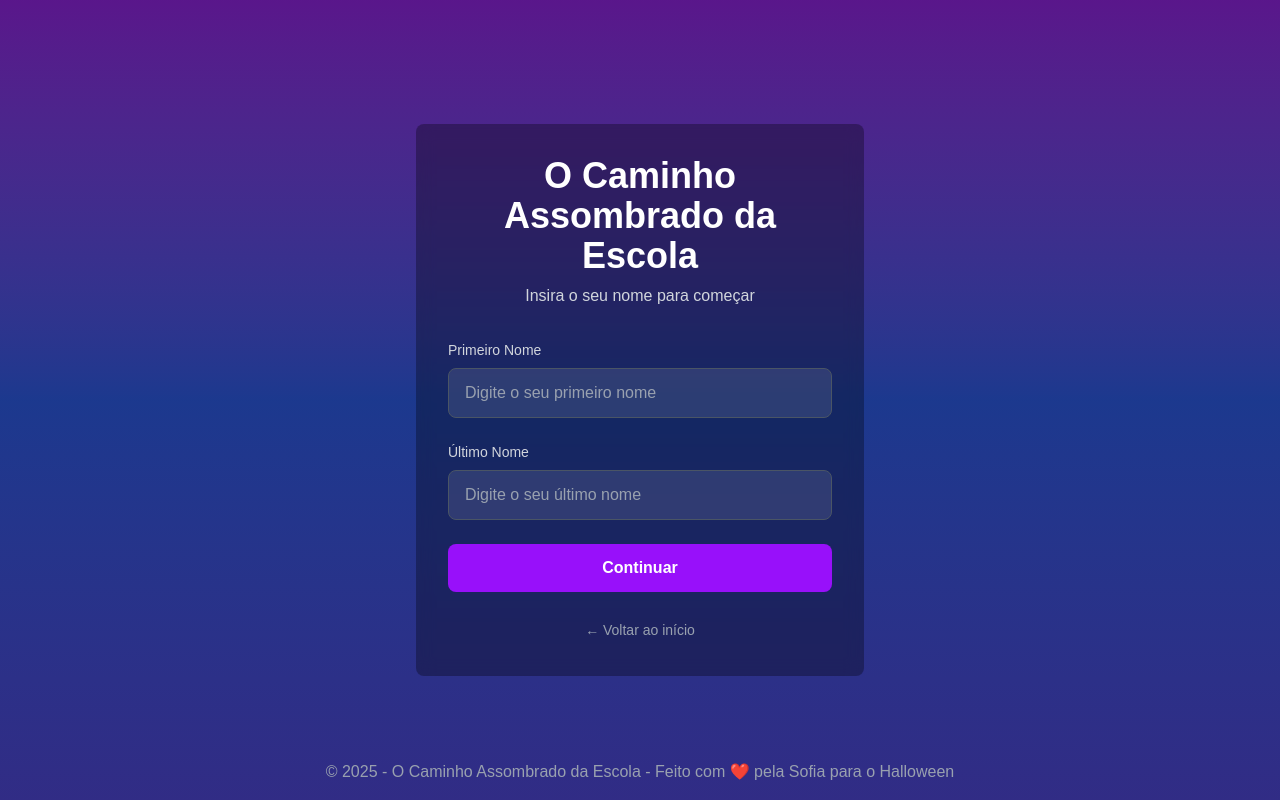
Test case: NomePage › shows validation errors when submitting empty form
Click the button "Continuar". click: point(640, 568)
box: x1=448 y1=544 x2=832 y2=592
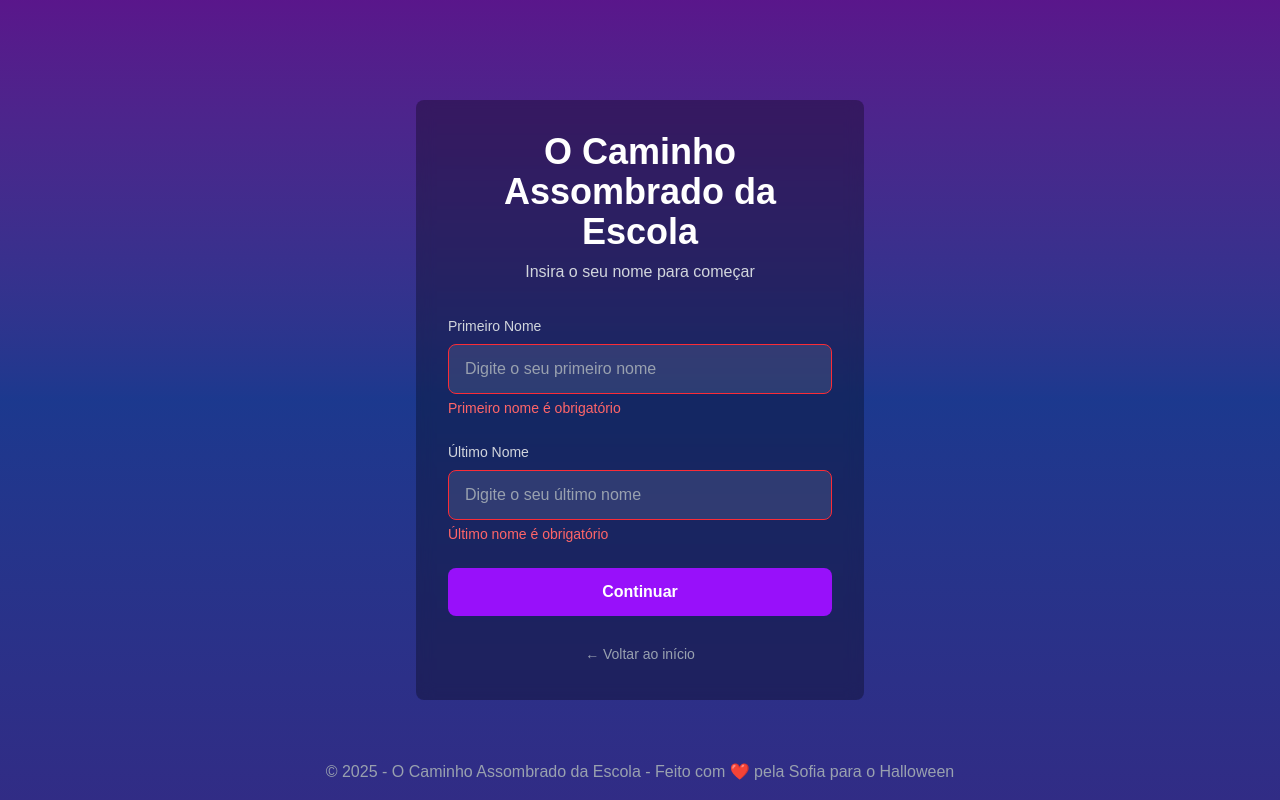
Expected: the text "Primeiro nome é obrigatório" is shown, x1=448 y1=400 x2=621 y2=416
Expected: the text "Último nome é obrigatório" is shown, x1=448 y1=526 x2=608 y2=542
